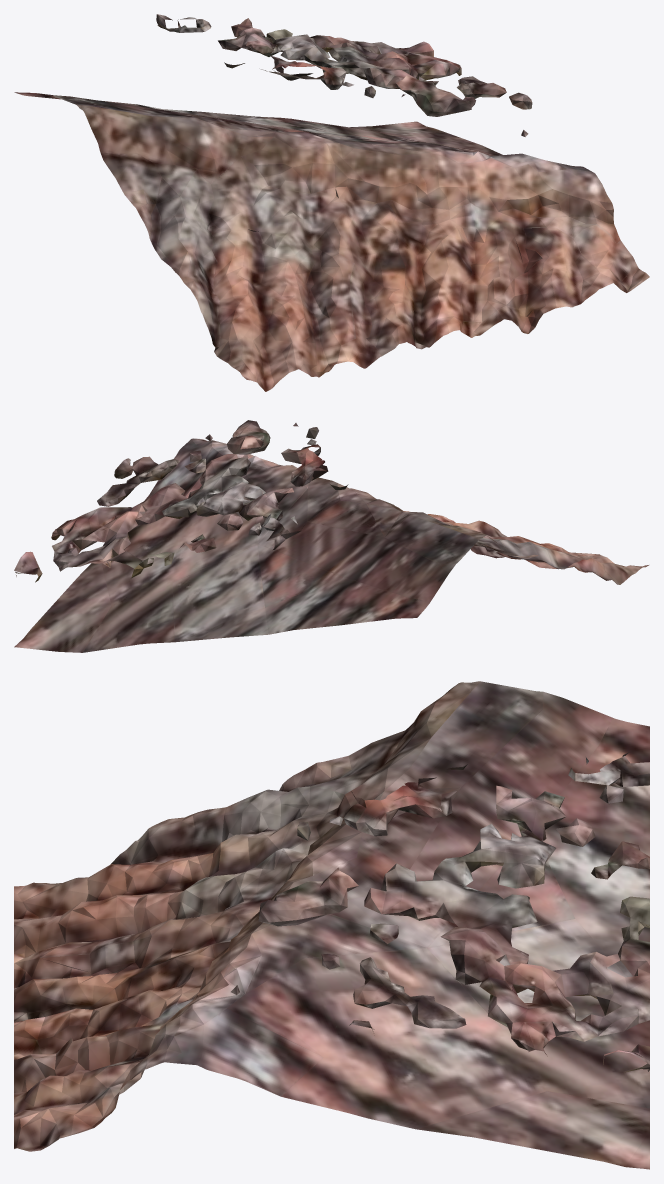
3 renders of one model, top to bottom at view 1: azimuth 30°, elevation 25°; view 2: azimuth 150°, elevation 25°; view 3: azimuth 270°, elevation 25°, orthographic. The views are drawn at different scales.
Size of the model in its own units: 1.67 by 0.7439 by 1.67.
4 materials, 4 textured.
